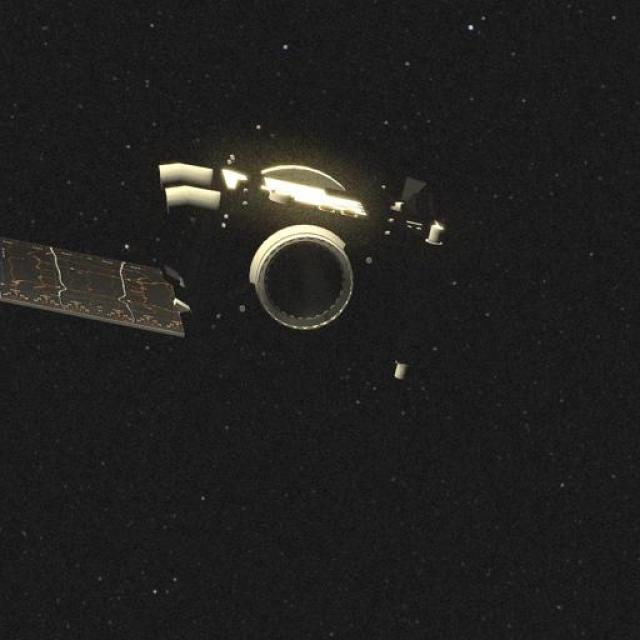proba_3_csc: (0, 148, 481, 368)
